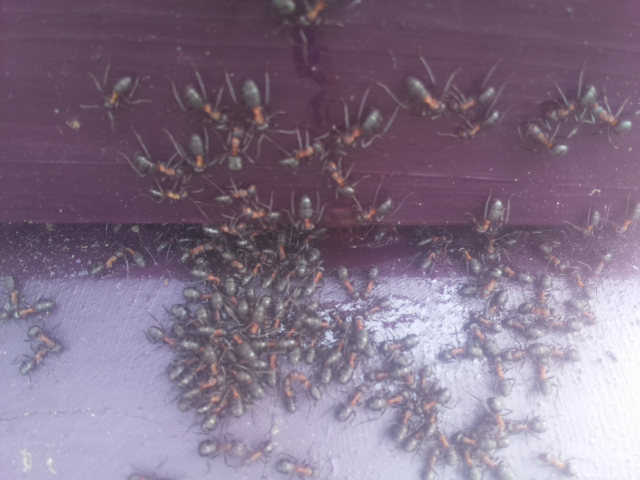ant: (566, 78, 632, 139), (191, 370, 243, 443), (175, 69, 231, 136), (14, 318, 71, 381), (333, 98, 393, 156), (233, 66, 277, 144), (136, 314, 205, 361), (539, 78, 603, 128), (393, 69, 455, 120), (466, 192, 511, 259), (385, 397, 435, 455), (517, 115, 575, 163), (124, 144, 187, 186), (0, 279, 55, 327), (83, 241, 148, 281), (444, 78, 505, 118), (225, 326, 273, 375), (450, 104, 507, 143), (192, 434, 258, 466), (271, 136, 332, 169), (343, 194, 403, 227), (531, 237, 574, 279), (322, 152, 358, 202), (330, 382, 371, 424), (454, 439, 496, 480), (205, 181, 264, 210), (284, 364, 326, 404), (99, 70, 136, 114), (270, 451, 322, 480), (334, 259, 366, 306), (530, 450, 581, 479), (562, 292, 598, 333), (237, 437, 280, 469), (224, 120, 248, 175), (482, 397, 514, 437), (352, 312, 378, 360), (293, 0, 333, 31), (333, 344, 361, 388), (293, 189, 322, 231), (611, 196, 640, 238), (184, 129, 210, 173), (477, 263, 506, 300), (490, 356, 514, 400), (580, 206, 605, 238), (362, 392, 409, 409), (144, 185, 187, 203), (471, 310, 502, 333), (387, 332, 419, 354), (499, 265, 535, 284), (535, 362, 554, 397), (364, 262, 380, 300)
